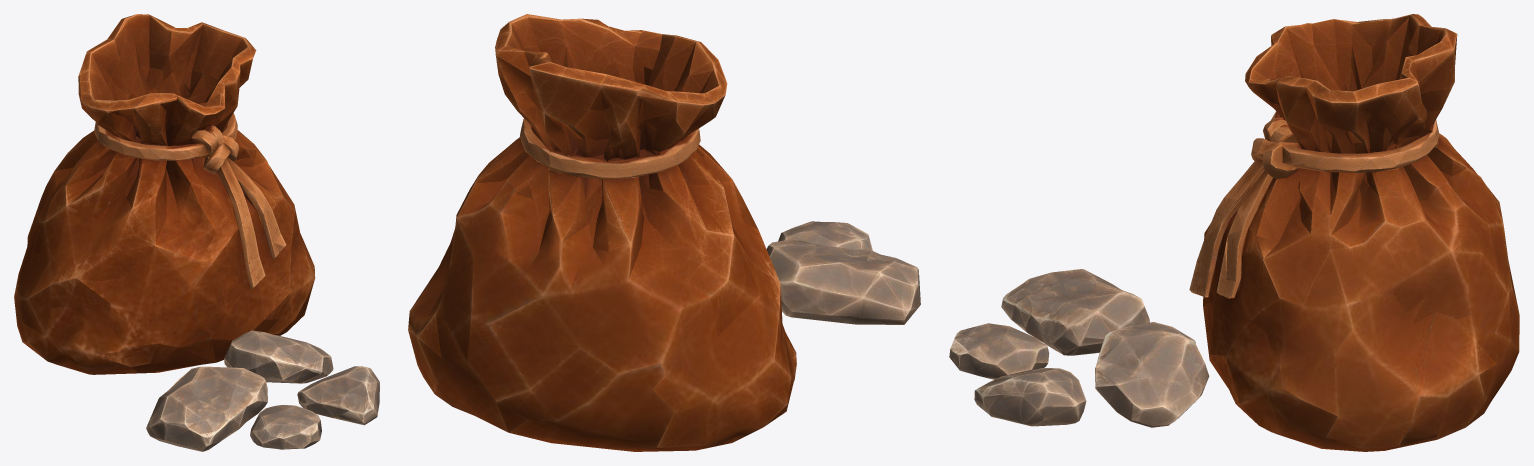
Rendered from silver-pouch.glb.
3 renders of one model, left to right at view 1: azimuth 30°, elevation 25°; view 2: azimuth 150°, elevation 25°; view 3: azimuth 270°, elevation 25°, orthographic. The views are drawn at different scales.
Size of the model in its own units: 1.31 by 1.3 by 1.9.
Materials: 1 (1 with a texture image).
